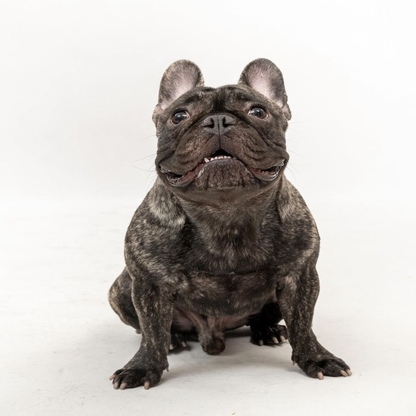bulldog: (101, 56, 355, 392)
